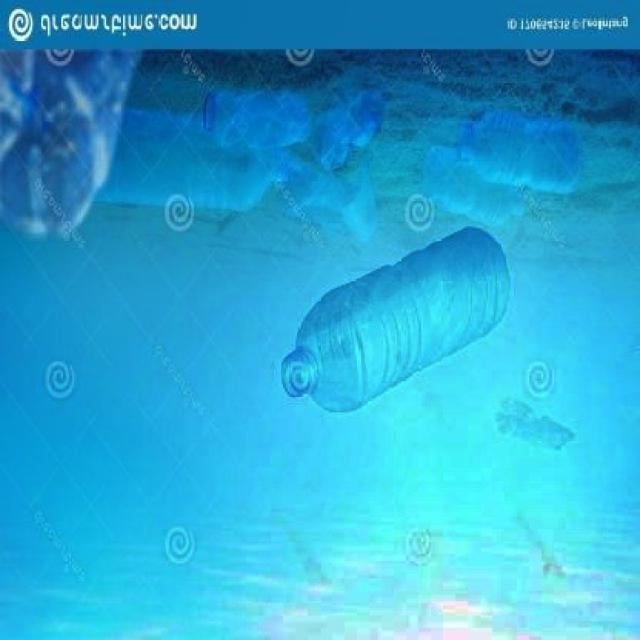pbottle: (281, 228, 513, 418), (454, 114, 581, 195)
